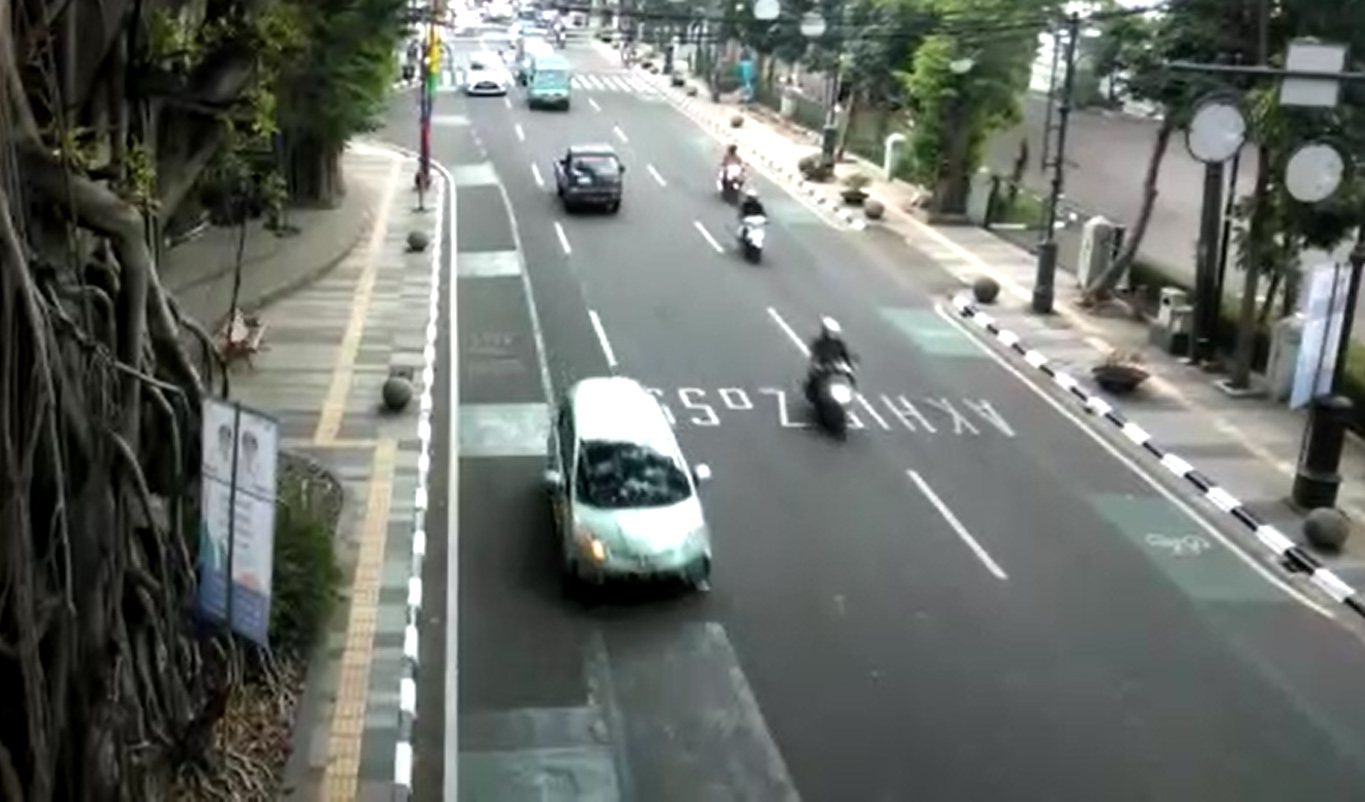mobil: (530, 365, 730, 625), (545, 137, 637, 226)
motor: (788, 306, 881, 455), (729, 182, 778, 274), (712, 133, 755, 208)
